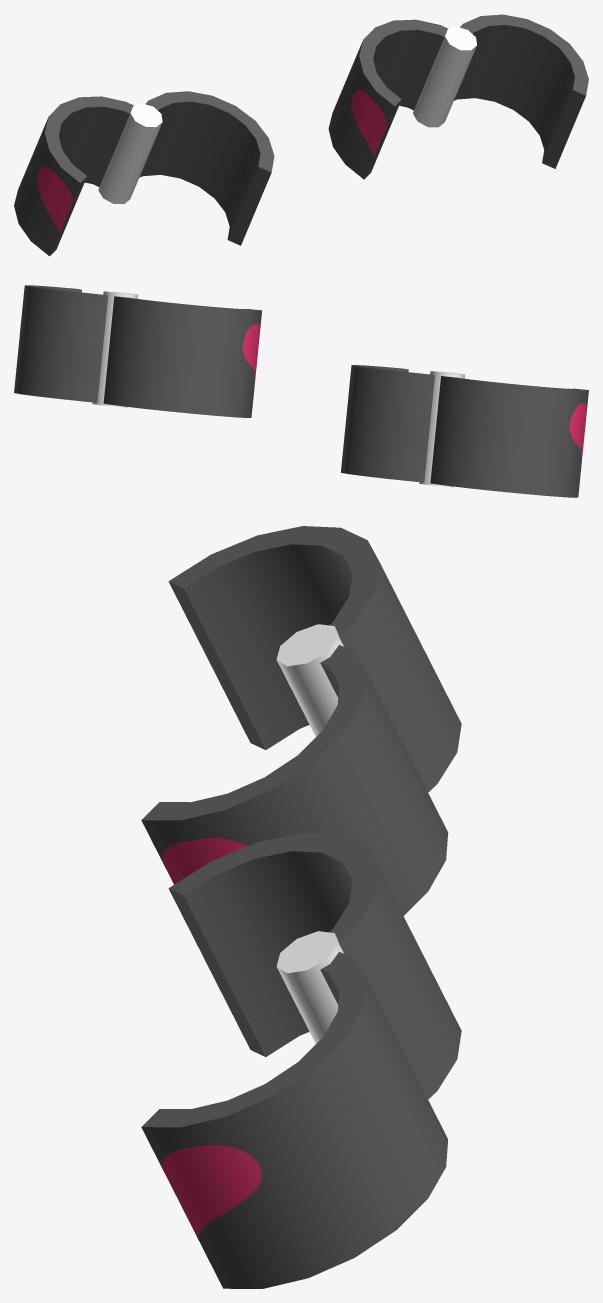
Rendered from Chain.glb.
3 renders of one model, top to bottom at view 1: azimuth 30°, elevation 25°; view 2: azimuth 150°, elevation 25°; view 3: azimuth 270°, elevation 25°, orthographic. The views are drawn at different scales.
Parts seen in each view (by area): view 1: Cylinder004 (×2), Chain, ChainCopy, Cylinder003 (×2); view 2: Cylinder004 (×2), ChainCopy, Chain, Cylinder003 (×2); view 3: Cylinder004 (×2), ChainCopy, Chain, Cylinder003 (×2).
Boxes of the visible parts, box(x1,y1,x2,y2) form: Cylinder004 (×2): box(14, 19, 448, 256); Chain: box(139, 91, 274, 245); ChainCopy: box(454, 14, 588, 168); Cylinder003 (×2): box(98, 27, 476, 204); Cylinder004 (×2): box(103, 296, 588, 497); ChainCopy: box(14, 285, 107, 402); Chain: box(341, 365, 434, 482); Cylinder003 (×2): box(92, 291, 464, 487); Cylinder004 (×2): box(168, 526, 461, 1099); ChainCopy: box(141, 952, 448, 1288); Chain: box(141, 645, 448, 915); Cylinder003 (×2): box(276, 624, 343, 1043).
Size of the model in its own units: 1.09 by 0.2916 by 0.2815.
Materials: 2 (1 with a texture image).
